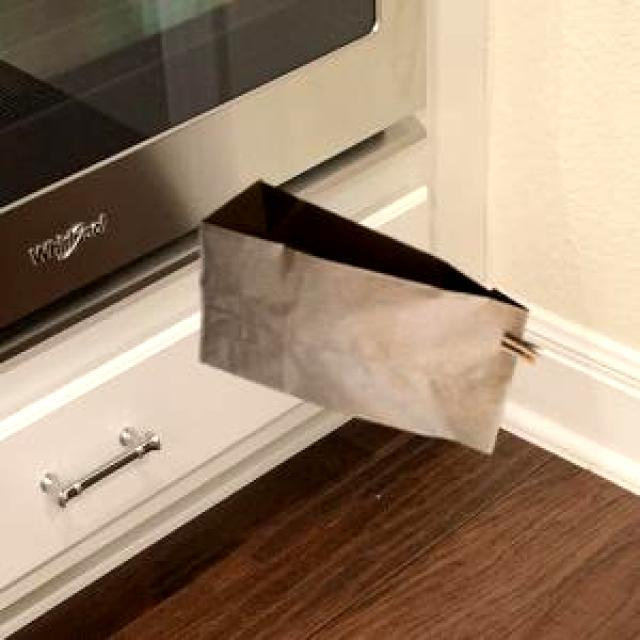Paper_Bag: (197, 178, 539, 451)
